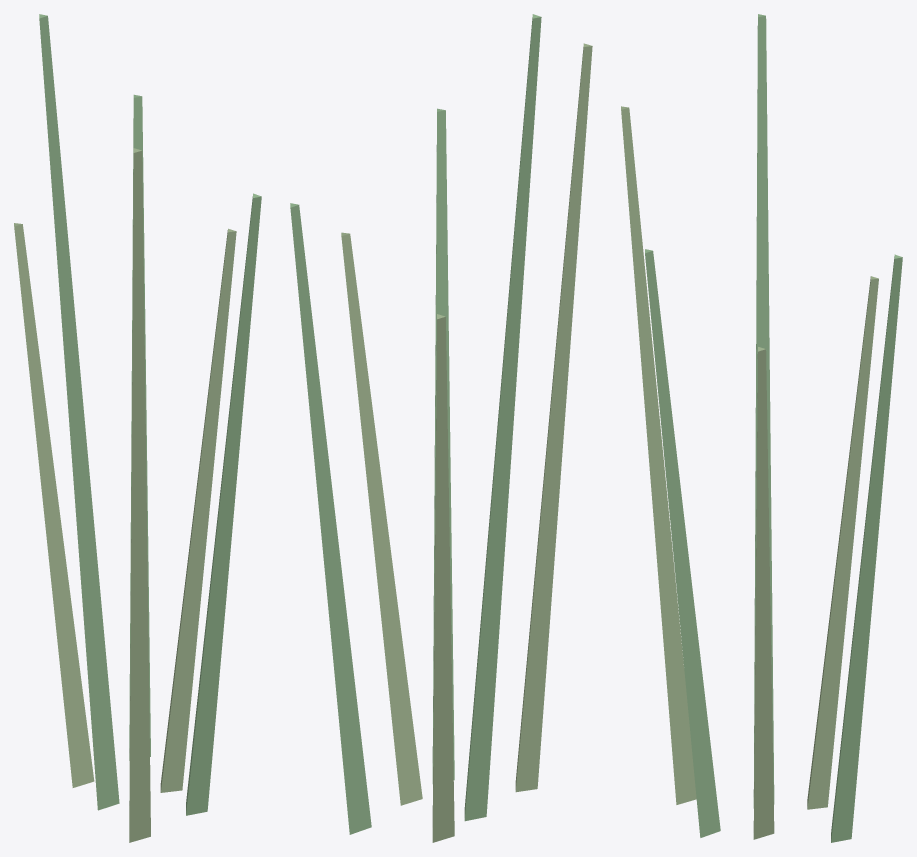
The model's file is reed_v01.glb.
3 views of the same model, side by side, from view 1: azimuth 30°, elevation 25°; view 2: azimuth 150°, elevation 25°; view 3: azimuth 270°, elevation 25° (orthographic). The views are drawn at different scales.
Visible parts, largest first — view 1: lod0; view 2: lod0; view 3: lod0.
Boxes of the visible parts, left/top/right/bottom form: lod0: left=14, top=14, right=261, bottom=842; lod0: left=290, top=14, right=592, bottom=842; lod0: left=621, top=14, right=902, bottom=842.
Size of what is drawn, in the model's own units: 0.3138 by 1.22 by 0.4104.
